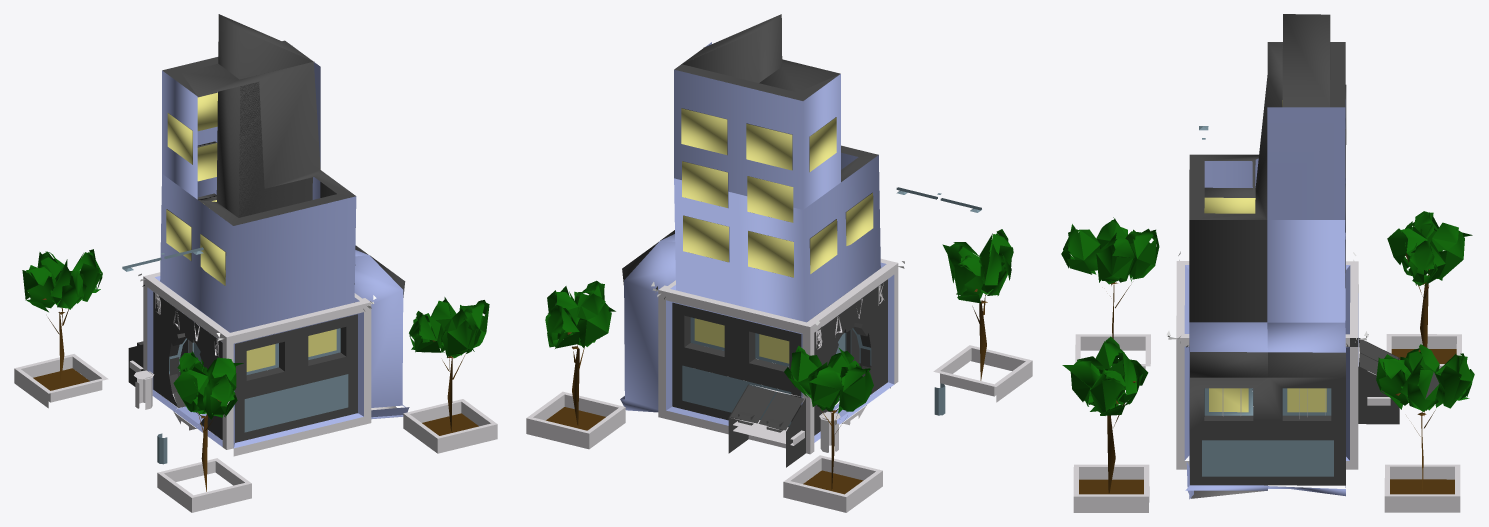
The model's file is bank.glb.
3 renders of one model, left to right at view 1: azimuth 30°, elevation 25°; view 2: azimuth 150°, elevation 25°; view 3: azimuth 270°, elevation 25°, orthographic. The views are drawn at different scales.
Visible parts, largest first — view 1: Bank.001; view 2: Bank.001; view 3: Bank.001.
Boxes of the visible parts, x1,y1,x2,y2 form: Bank.001: (14, 14, 497, 512); Bank.001: (526, 14, 1032, 512); Bank.001: (1061, 14, 1474, 512).
Bounding box in the file's own units: 215 × 246 × 219.
1 material, 1 textured.
